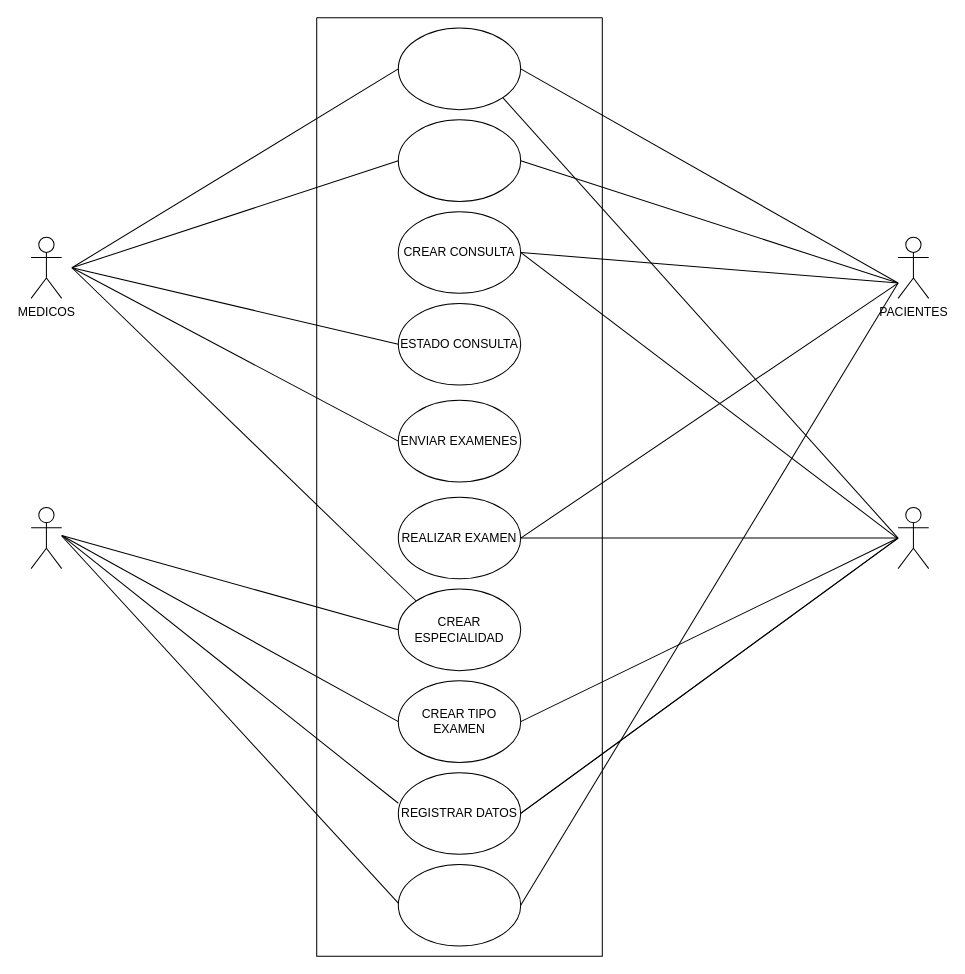
This 965x974 diagram has some shape labels left out. The shapes that lost their labels are listed below. From the top down, each one's box as (x1, y1, x2, y2) in pixels, then its label:
(397, 27, 521, 110): REGISTRO USUARIOS
(397, 119, 521, 201): SALDO
(30, 506, 62, 569): ADMIN
(897, 506, 929, 569): LAB
(397, 863, 521, 946): PORCENTAJE COBRO
